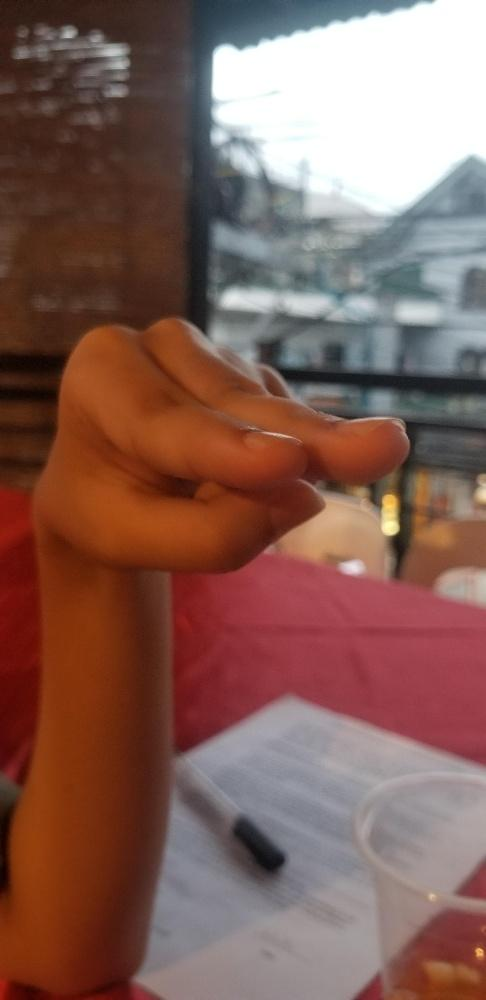n: (29, 314, 410, 575)
